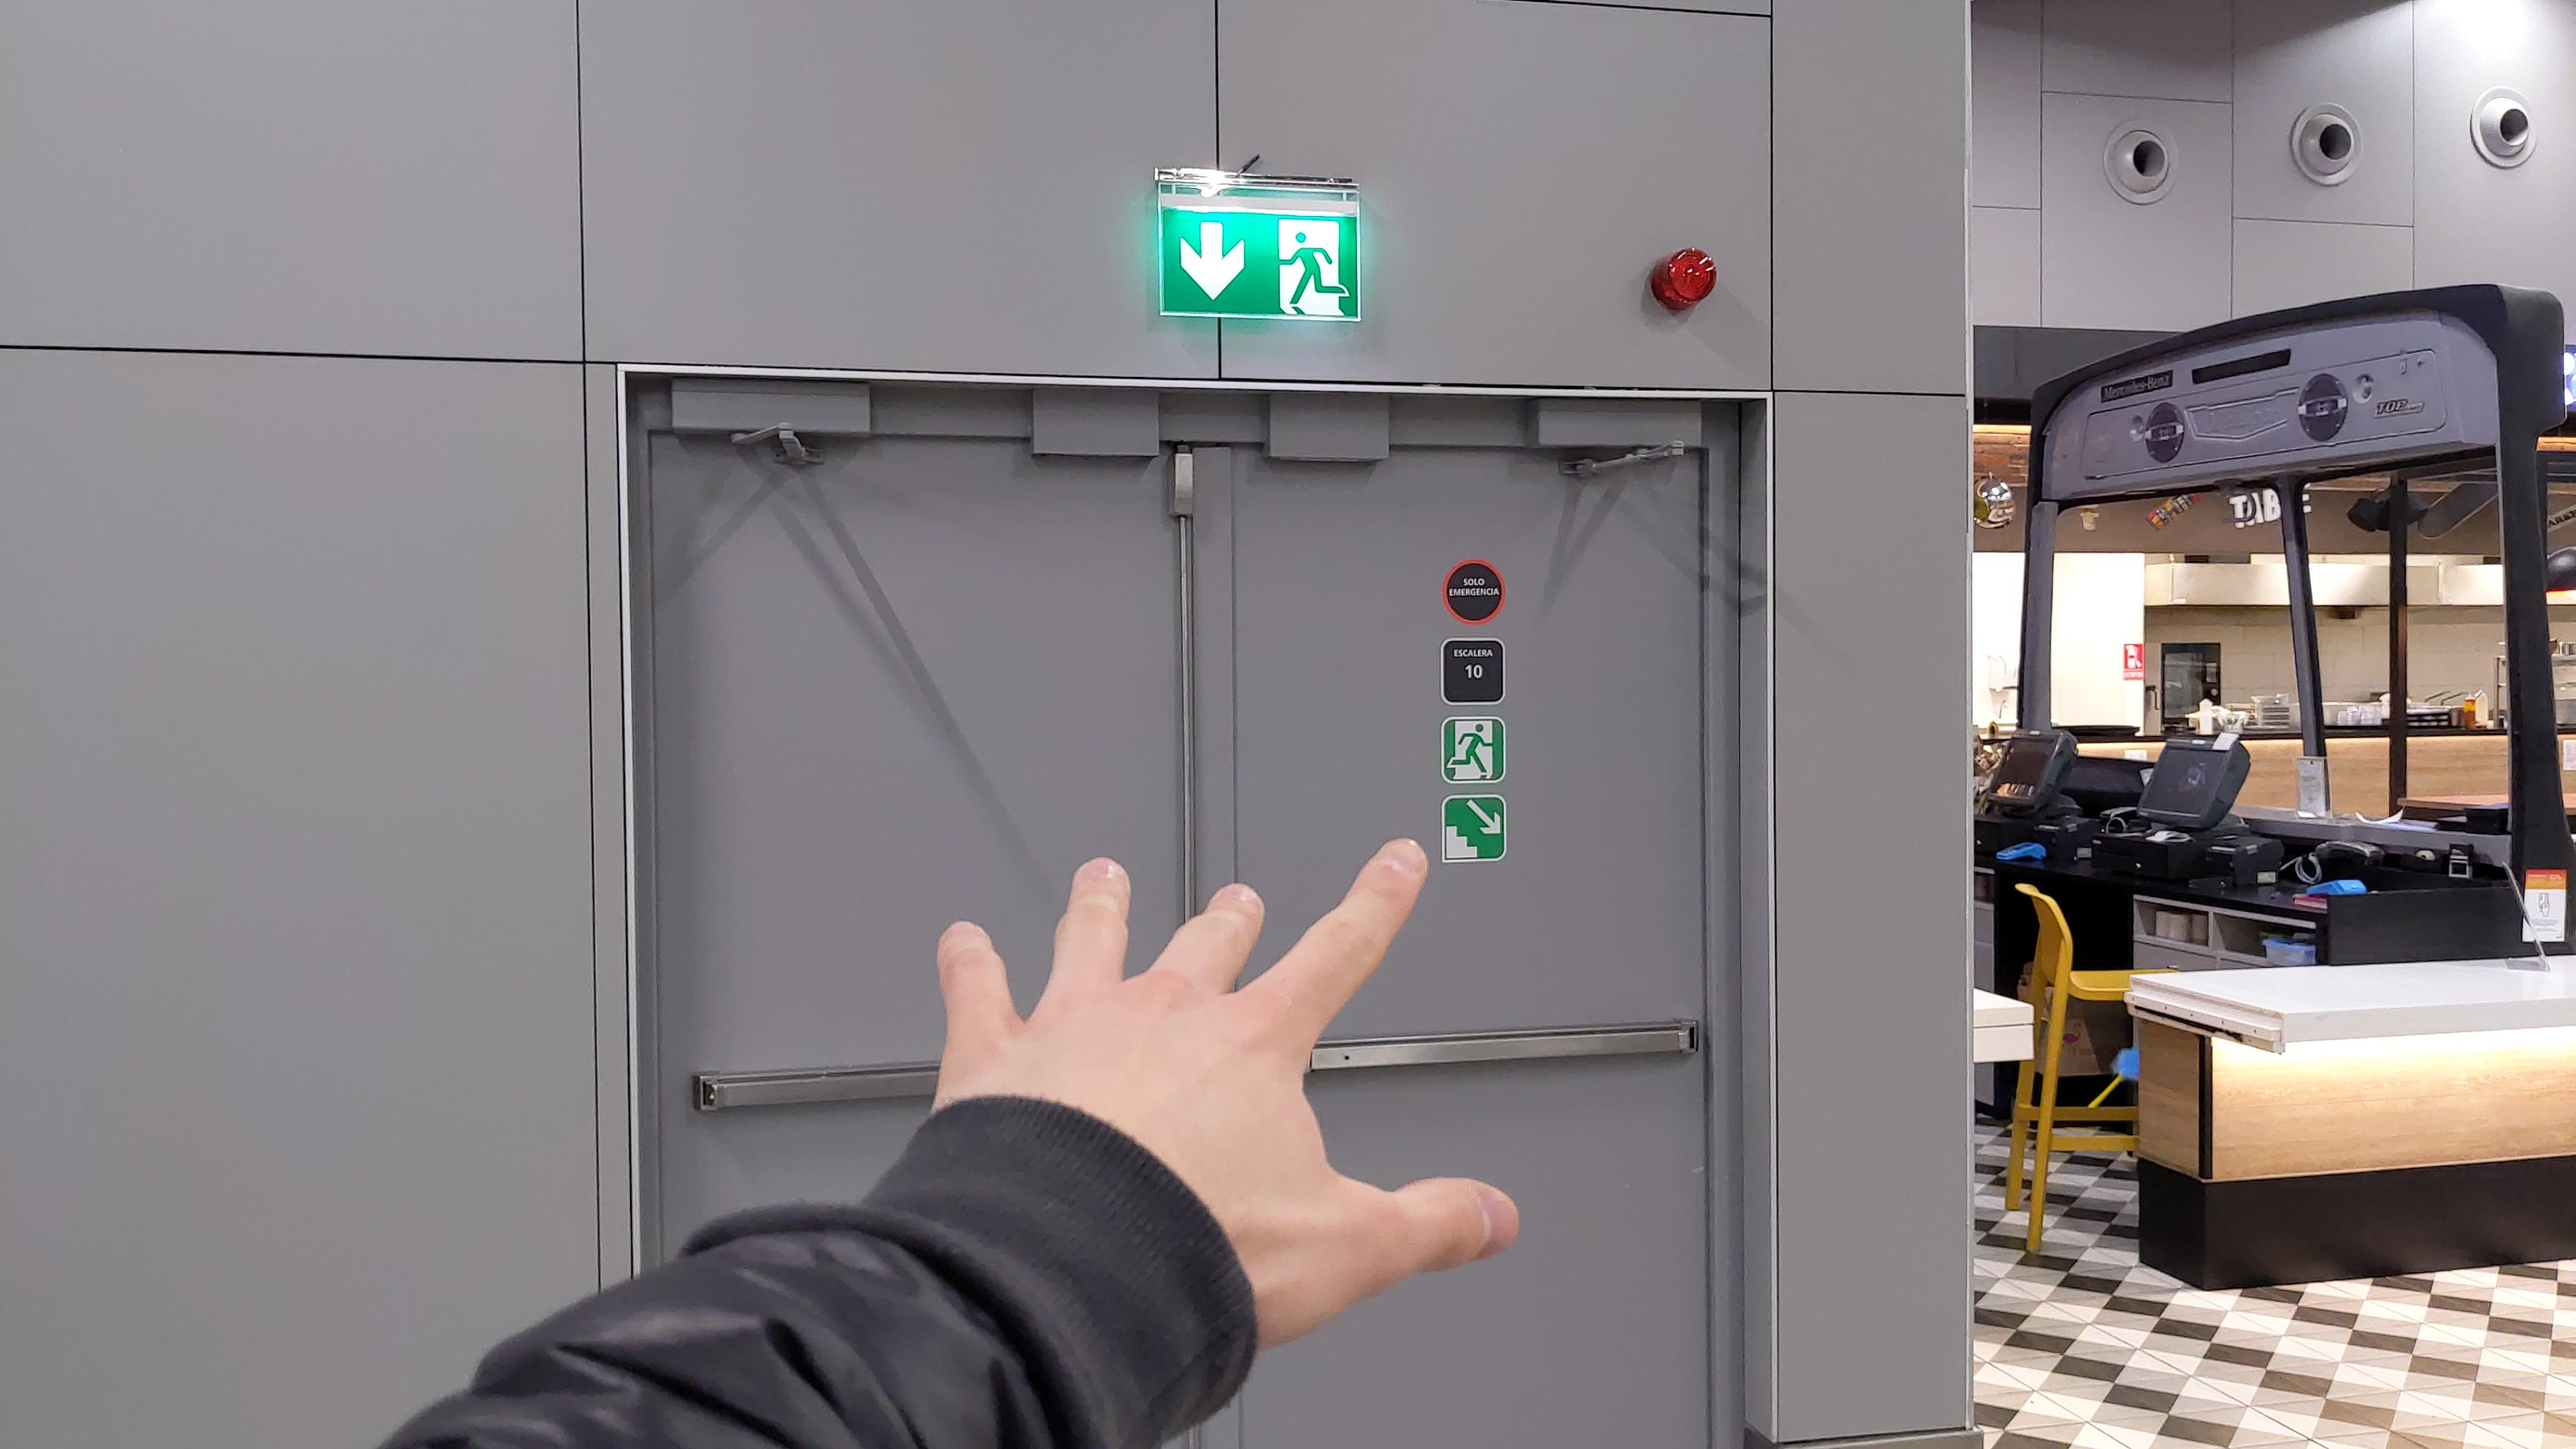emergency down arrow: (1177, 216, 1253, 304)
emergency exit: (1272, 216, 1352, 317), (1447, 718, 1499, 780)
